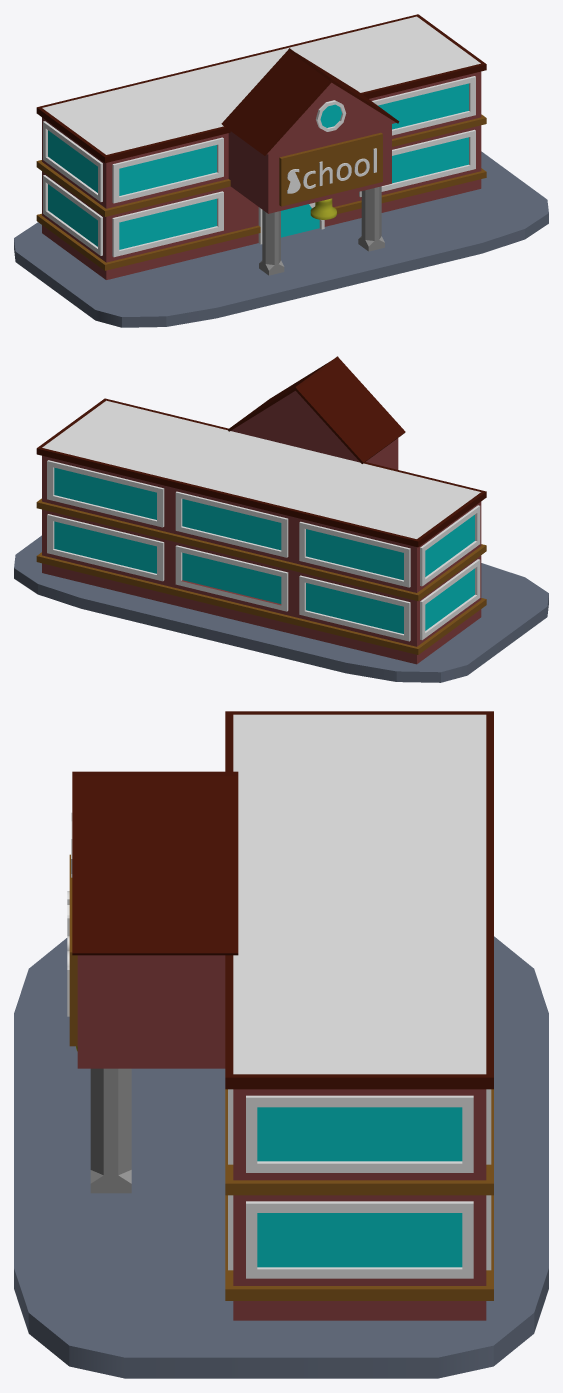
File: School.fbx
The picture shows the model from 3 angles, top to bottom: view 1: azimuth 30°, elevation 25°; view 2: azimuth 150°, elevation 25°; view 3: azimuth 270°, elevation 25°; orthographic projection. The views are drawn at different scales.
Visible parts, largest first — view 1: School, School_Bell; view 2: School; view 3: School.
Boxes of the visible parts, x1=… form: School: x1=14, y1=14, x2=548, y2=327; School_Bell: x1=310, y1=198, x2=336, y2=219; School: x1=14, y1=356, x2=548, y2=682; School: x1=14, y1=711, x2=548, y2=1378.
Size of the model in its own units: 39.56 by 16.47 by 20.62.
